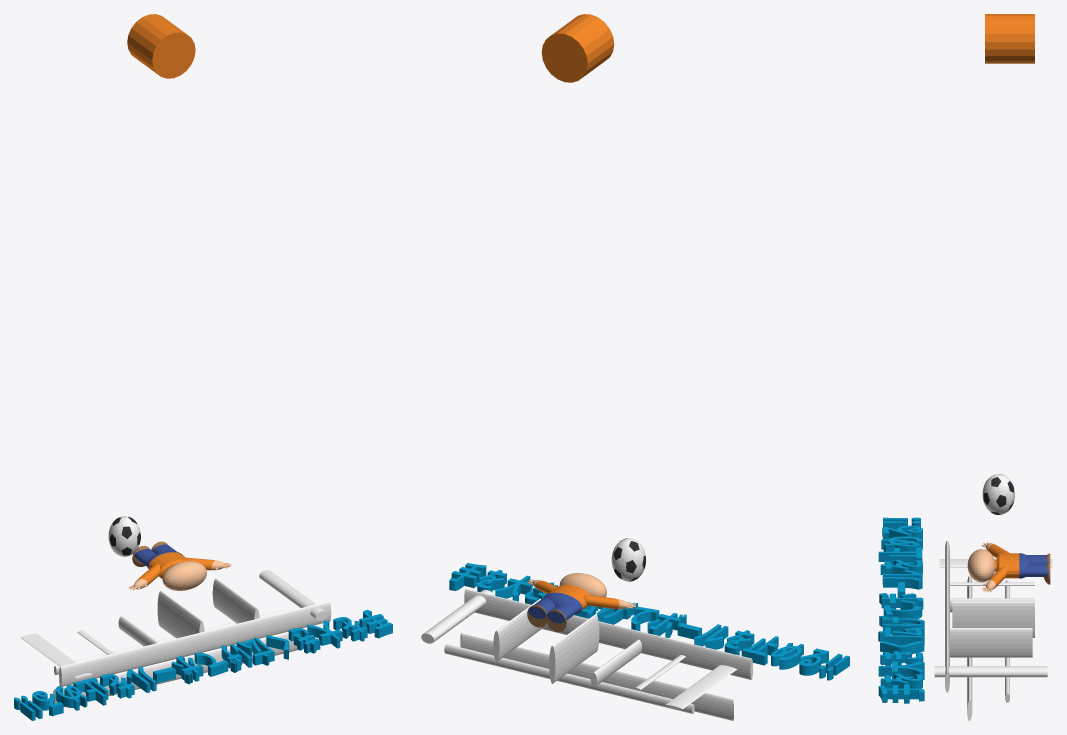
File: tinker.obj
3 views of the same model, side by side, from view 1: azimuth 30°, elevation 25°; view 2: azimuth 150°, elevation 25°; view 3: azimuth 270°, elevation 25° (orthographic). The views are drawn at different scales.
Parts seen in each view (by area): view 1: group_0_16448250, group_0_40919, group_0_16089887, group_0_16500122; view 2: group_0_16448250, group_0_40919, group_0_16089887, group_0_3888547, group_0_16500122; view 3: group_0_16448250, group_0_40919, group_0_16089887, group_0_16500122, group_0_3888547, group_0_2829873.
Part boxes in pixels (x1=…): group_0_16448250: x1=20, y1=516, x2=331, y2=707; group_0_40919: x1=14, y1=609, x2=392, y2=720; group_0_16089887: x1=127, y1=14, x2=214, y2=585; group_0_16500122: x1=128, y1=560, x2=231, y2=590; group_0_16448250: x1=421, y1=538, x2=752, y2=720; group_0_40919: x1=449, y1=563, x2=849, y2=680; group_0_16089887: x1=535, y1=14, x2=619, y2=609; group_0_3888547: x1=528, y1=592, x2=582, y2=623; group_0_16500122: x1=527, y1=573, x2=635, y2=609; group_0_16448250: x1=934, y1=474, x2=1052, y2=720; group_0_40919: x1=878, y1=517, x2=924, y2=703; group_0_16089887: x1=985, y1=14, x2=1034, y2=587; group_0_16500122: x1=967, y1=542, x2=995, y2=592; group_0_3888547: x1=1019, y1=553, x2=1048, y2=578; group_0_2829873: x1=983, y1=474, x2=1013, y2=514.
Bounding box in the file's own units: 167 × 282 × 69.53.
